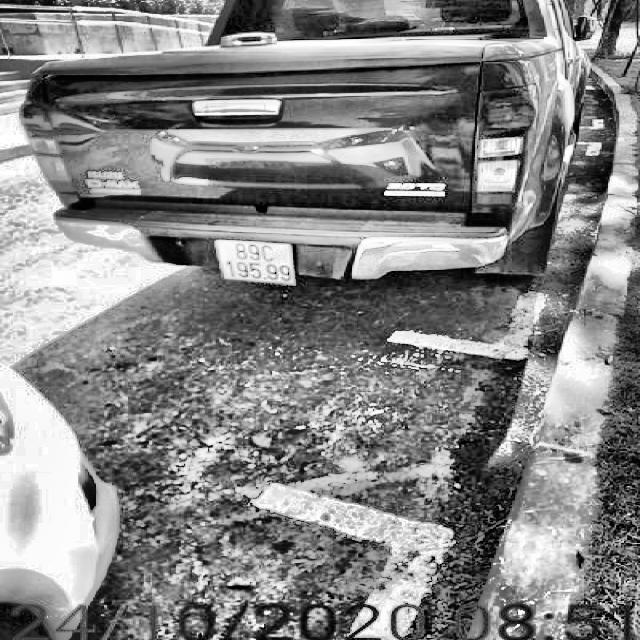plate: (208, 228, 306, 292)
